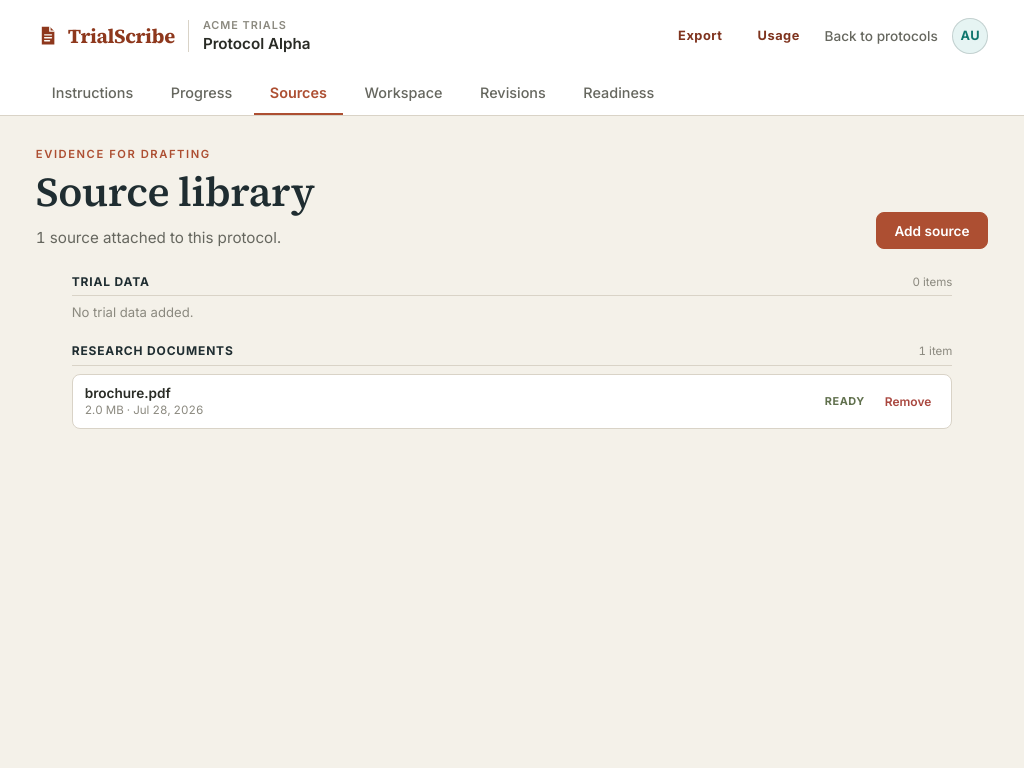
Test: SourceLibraryPage › asks before removing a source and drops the row once confirmed
What coordinates should you click on to do the following:
click the button with aria-label "Remove brochure.pdf"
I would click on:
 (908, 401)
Its box is [877,388,939,414].
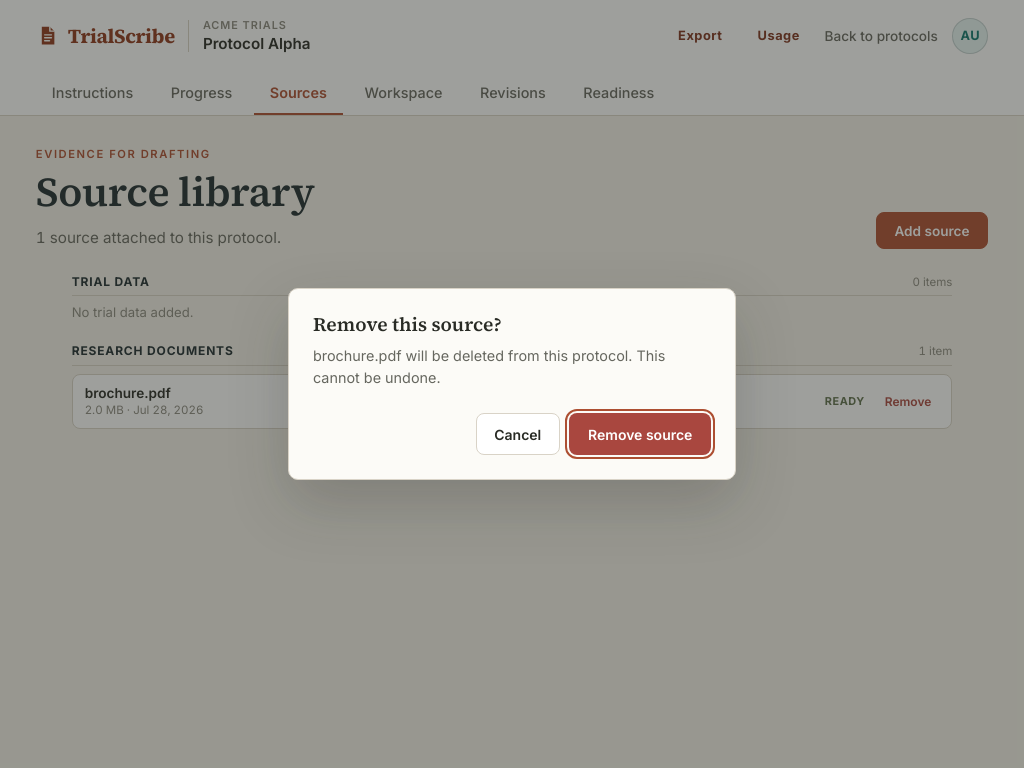
expect the text "brochure.pdf will be deleted" is shown: met, box [313,347,665,386]
What coordinates should you click on to do the following:
click the button "Remove source"
I would click on:
 (640, 434)
Its box is [570,413,711,455].
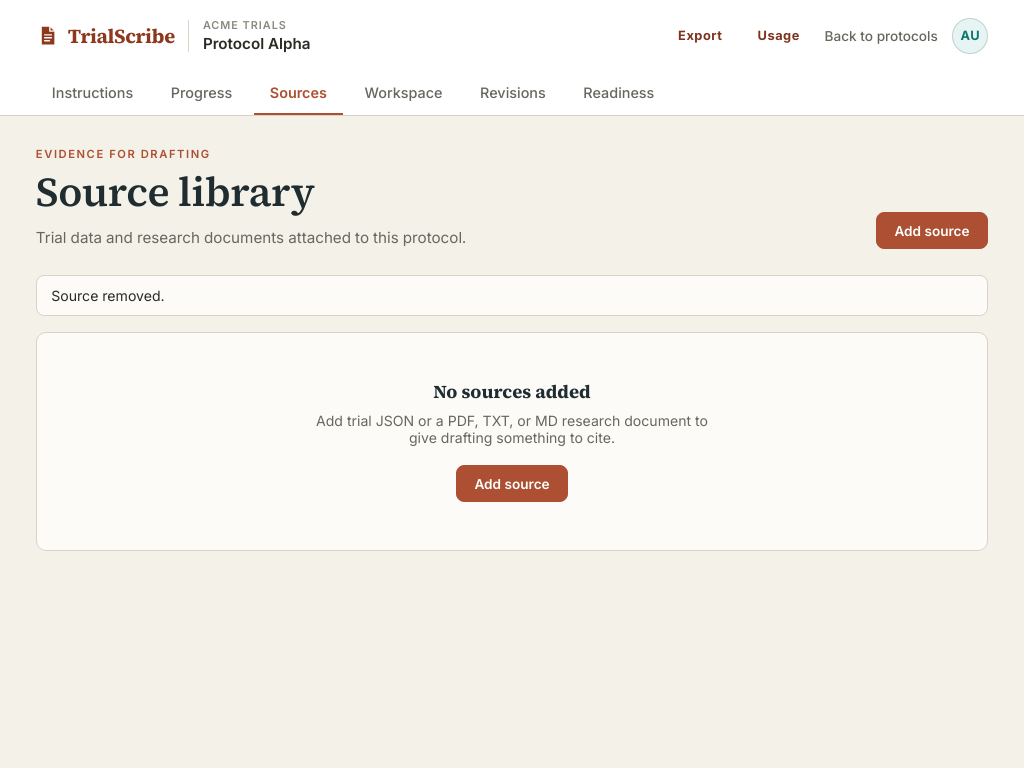
expect the text "brochure.pdf" is gone: met
